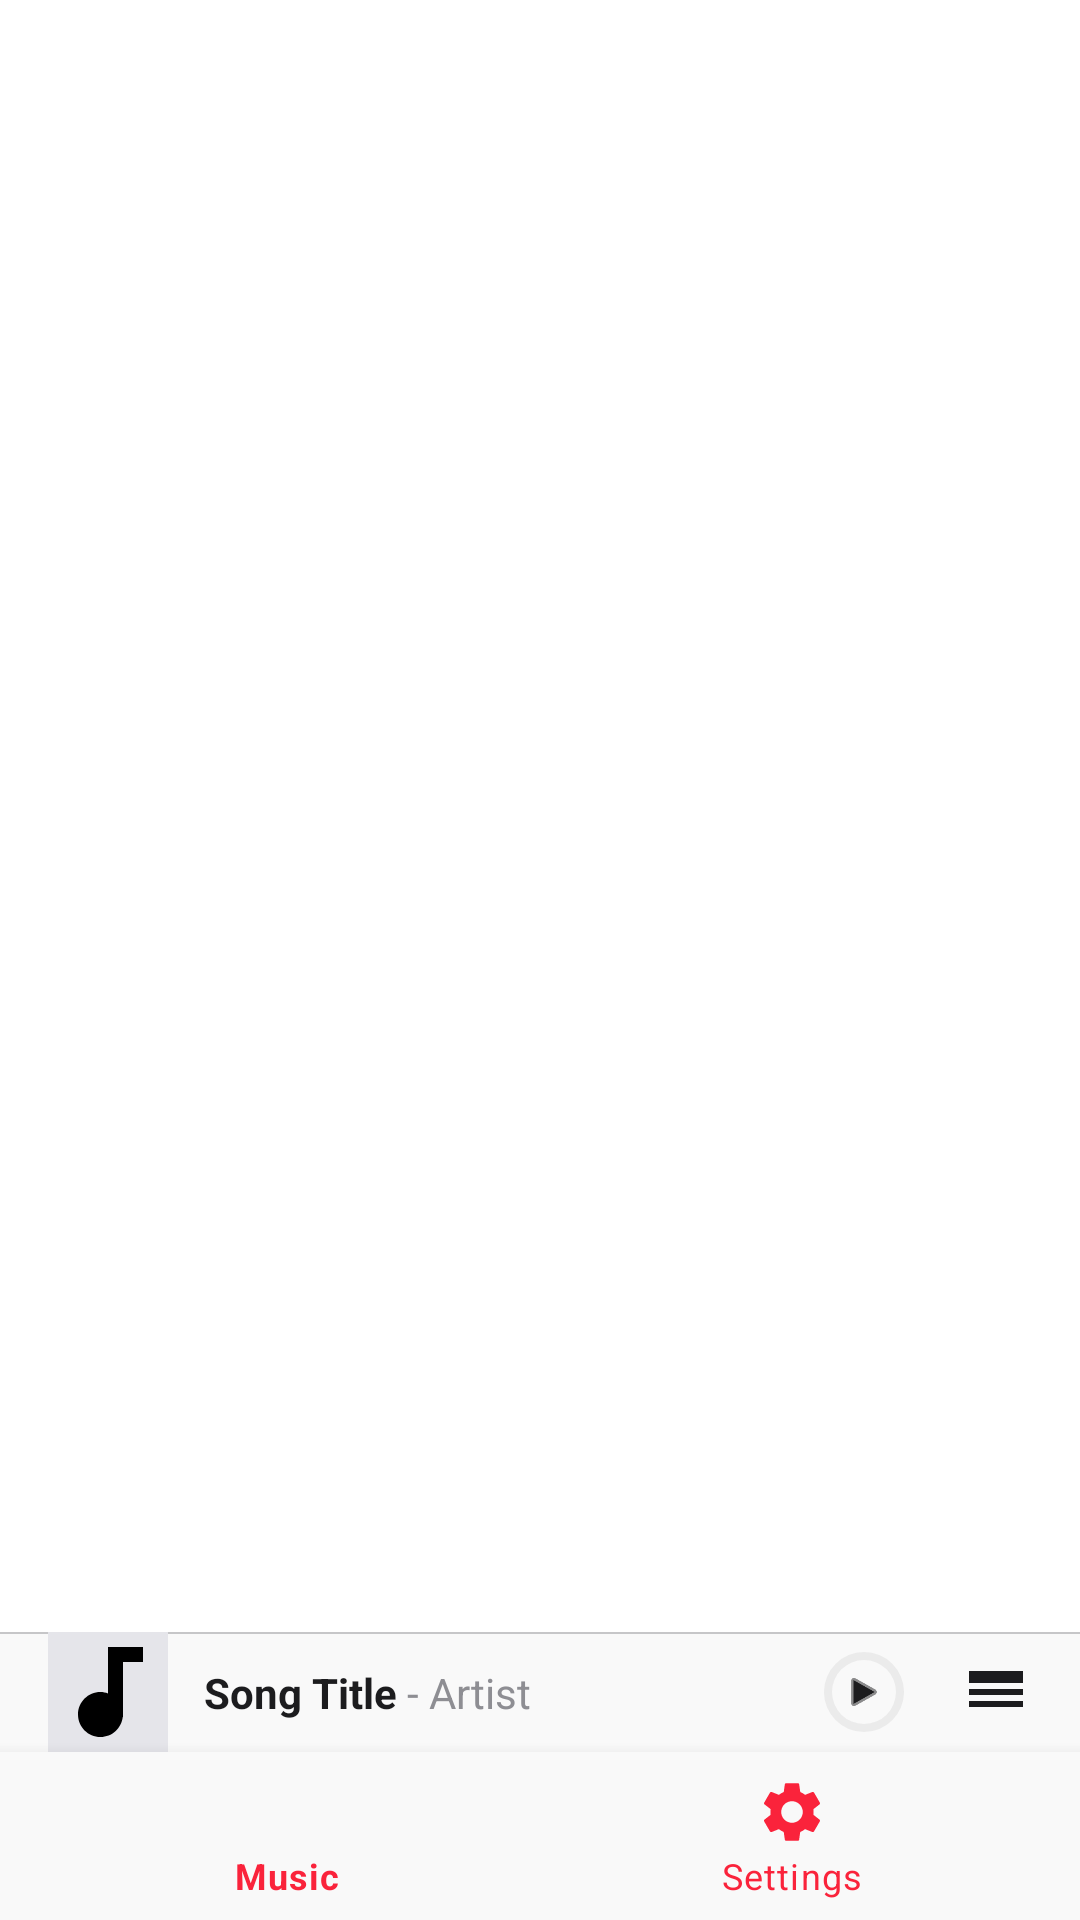

Locate icon controls on the screen. Image size 1080×1920, boxes as (x1,y1,x2,y2).
play: (851,1678,877,1706)
playlist: (969,1671,1023,1707)
